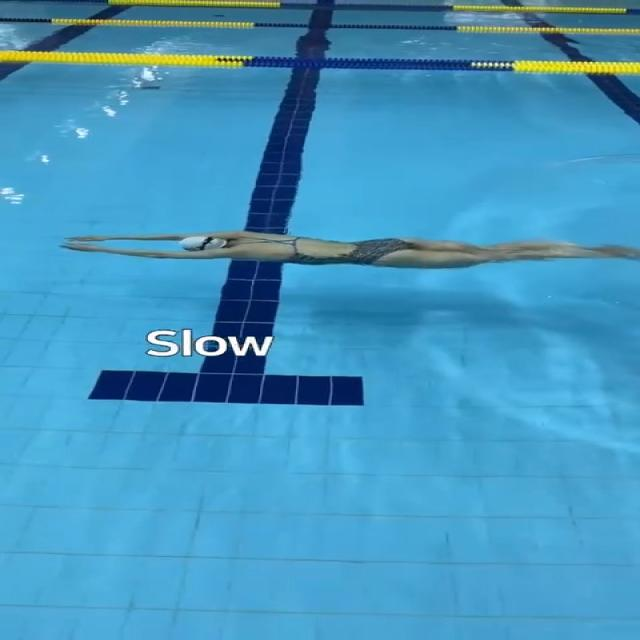Swimming: (58, 228, 638, 270)
